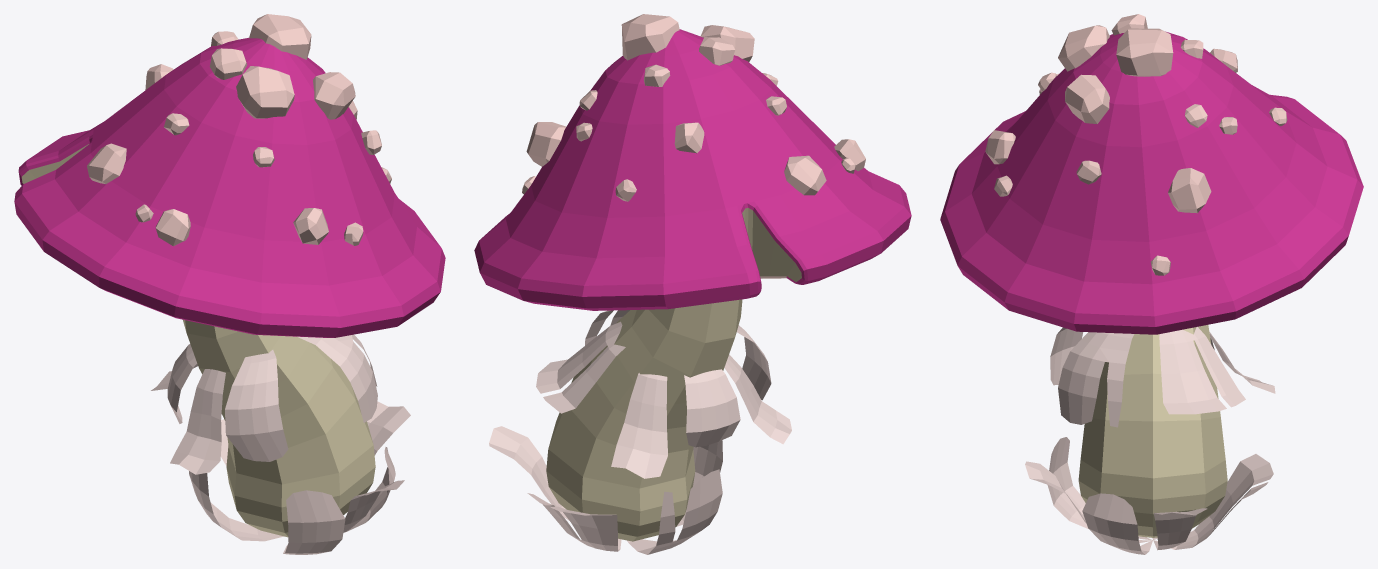
File: mushroom_3_reduced_poly.fbx
The picture shows the model from 3 angles, left to right: view 1: azimuth 30°, elevation 25°; view 2: azimuth 150°, elevation 25°; view 3: azimuth 270°, elevation 25°; orthographic projection. The views are drawn at different scales.
Parts seen in each view (by area): view 1: cap, stem, Cube.008, BézierCurve.002, BezierCurve.013, BézierCurve, BezierCurve.012, BezierCurve.002, BezierCurve, BezierCurve.010, BezierCurve.001, BezierCurve.004; view 2: cap, stem, Cube.008, BezierCurve.014, BezierCurve.011, BezierCurve.010, BezierCurve.002, BezierCurve.003, BezierCurve, BezierCurve.013, BézierCurve.002, BézierCurve; view 3: cap, stem, Cube.008, BezierCurve.011, BezierCurve.012, BezierCurve.004, BezierCurve.003, BézierCurve, BezierCurve, BézierCurve.002, BezierCurve.001.
Boxes of the visible parts, left/top/right/bottom form: cap: left=14, top=37, right=445, bottom=337; stem: left=183, top=319, right=375, bottom=537; Cube.008: left=87, top=14, right=391, bottom=246; BézierCurve.002: left=225, top=350, right=288, bottom=461; BezierCurve.013: left=170, top=369, right=225, bottom=474; BézierCurve: left=283, top=490, right=345, bottom=554; BezierCurve.012: left=297, top=334, right=377, bottom=422; BezierCurve.002: left=189, top=471, right=283, bottom=541; BezierCurve: left=367, top=401, right=410, bottom=455; BezierCurve.010: left=167, top=344, right=197, bottom=423; BezierCurve.001: left=343, top=480, right=404, bottom=532; BezierCurve.004: left=344, top=447, right=395, bottom=532; cap: left=474, top=29, right=911, bottom=310; stem: left=546, top=299, right=742, bottom=541; Cube.008: left=522, top=14, right=865, bottom=201; BezierCurve.014: left=611, top=373, right=667, bottom=478; BezierCurve.011: left=536, top=321, right=625, bottom=413; BezierCurve.010: left=684, top=369, right=740, bottom=447; BezierCurve.002: left=627, top=469, right=722, bottom=554; BezierCurve.003: left=527, top=493, right=621, bottom=551; BezierCurve: left=489, top=426, right=569, bottom=520; BezierCurve.013: left=724, top=354, right=791, bottom=444; BézierCurve.002: left=737, top=325, right=771, bottom=400; BézierCurve: left=676, top=440, right=722, bottom=526; cap: left=940, top=31, right=1363, bottom=334; stem: left=1078, top=325, right=1227, bottom=537; Cube.008: left=985, top=14, right=1287, bottom=275; BezierCurve.011: left=1159, top=327, right=1245, bottom=414; BezierCurve.012: left=1058, top=332, right=1134, bottom=427; BezierCurve.004: left=1082, top=493, right=1152, bottom=554; BezierCurve.003: left=1154, top=454, right=1273, bottom=549; BézierCurve: left=1047, top=437, right=1152, bottom=540; BezierCurve: left=1153, top=508, right=1207, bottom=550; BézierCurve.002: left=1050, top=327, right=1083, bottom=385; BezierCurve.001: left=1025, top=461, right=1151, bottom=542.
Bounding box in the file's own units: 200 × 265 × 203.
